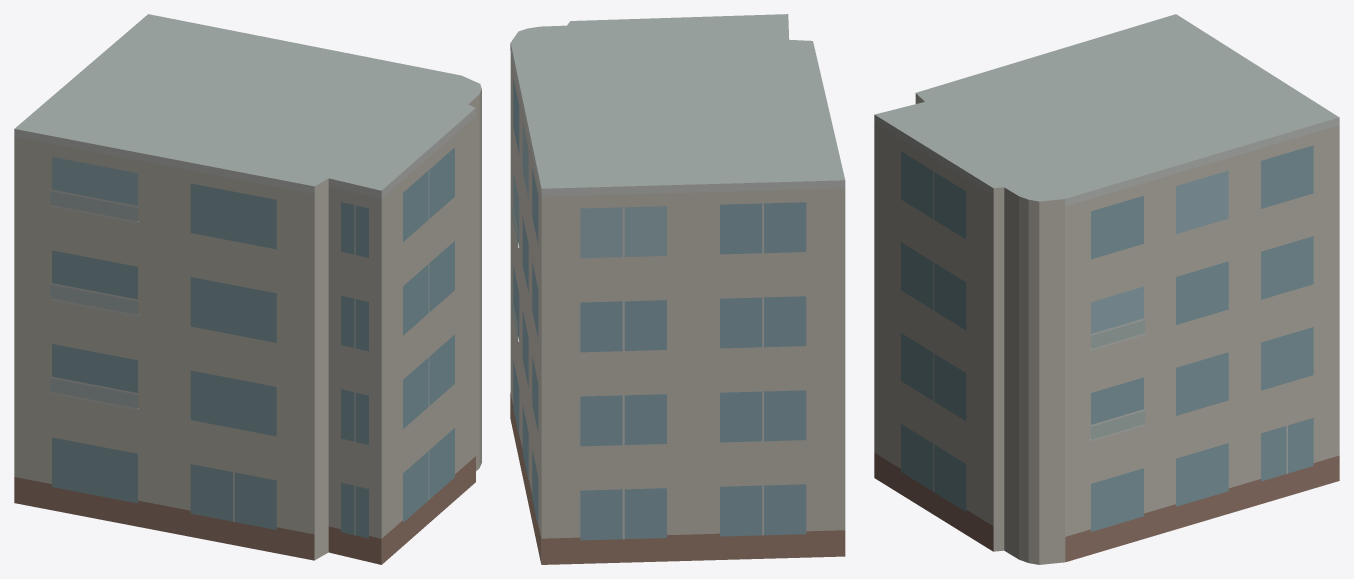
The model's file is survey-upis-32999589.glb.
3 renders of one model, left to right at view 1: azimuth 30°, elevation 25°; view 2: azimuth 150°, elevation 25°; view 3: azimuth 270°, elevation 25°, orthographic. The views are drawn at different scales.
Visible parts, largest first — view 1: survey-upis-32999589.tmp; view 2: survey-upis-32999589.tmp; view 3: survey-upis-32999589.tmp.
Part boxes in pixels (x1,y1,x2,y2): survey-upis-32999589.tmp: [14, 14, 481, 564]; survey-upis-32999589.tmp: [510, 14, 845, 564]; survey-upis-32999589.tmp: [874, 14, 1339, 564].
Size of the model in its own units: 12.95 by 11.7 by 13.58.
